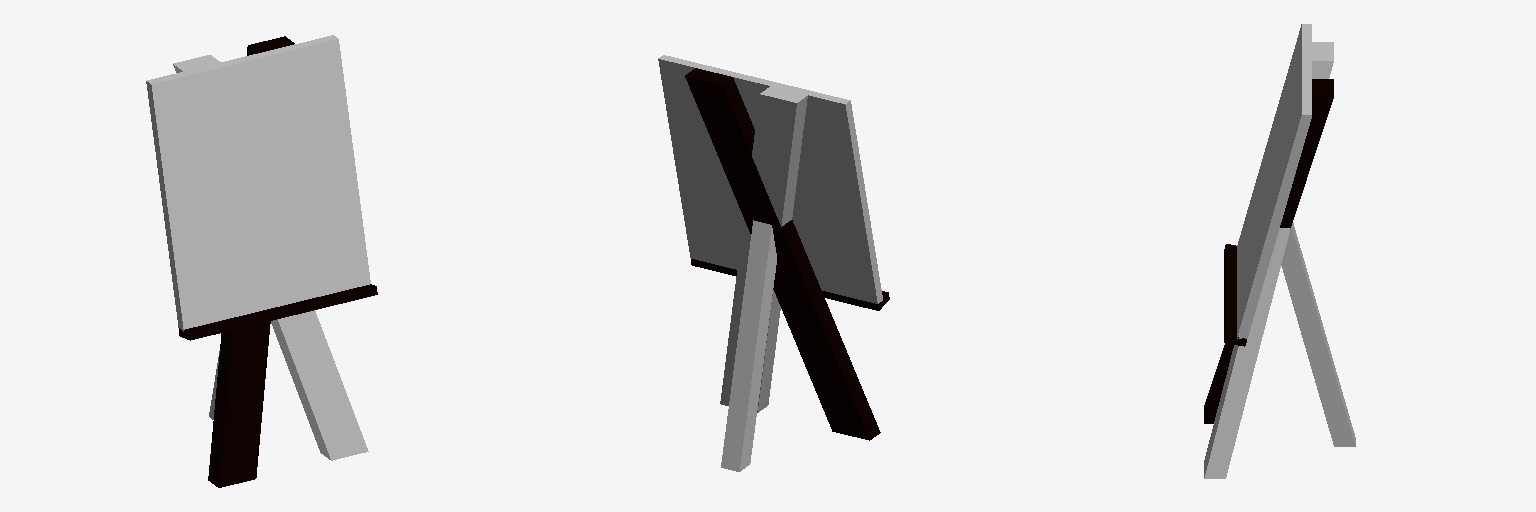
Rendered from PaintingLevel1.obj.
3 renders of one model, left to right at view 1: azimuth 30°, elevation 25°; view 2: azimuth 150°, elevation 25°; view 3: azimuth 270°, elevation 25°, orthographic.
Parts seen in each view (by area): view 1: Cube.001, Cube; view 2: Cube, Cube.001; view 3: Cube, Cube.001.
Part boxes in pixels (left/top/right/bottom): Cube.001: left=146, top=35, right=370, bottom=331; Cube: left=173, top=36, right=377, bottom=487; Cube: left=685, top=68, right=889, bottom=471; Cube.001: left=658, top=55, right=882, bottom=303; Cube: left=1204, top=42, right=1355, bottom=478; Cube.001: left=1237, top=24, right=1311, bottom=338.
Bounding box in the file's own units: 1 × 1.9 × 0.7.